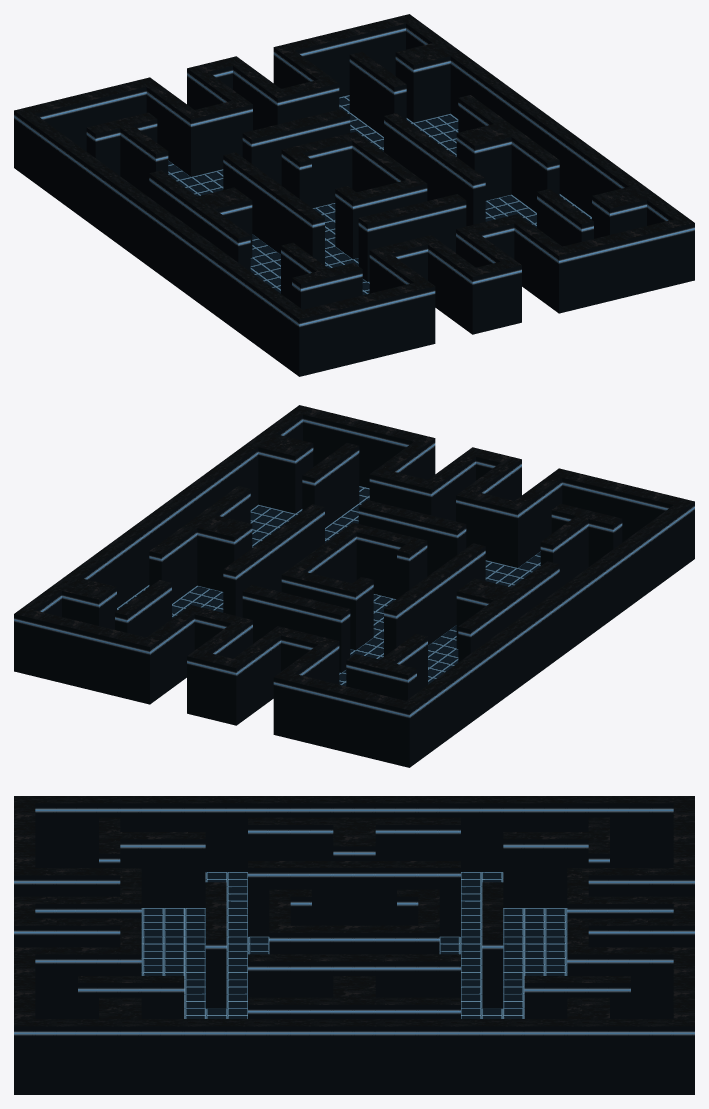
Rendered from EasyLevel2.fbx.
The picture shows the model from 3 angles, top to bottom: view 1: azimuth 30°, elevation 25°; view 2: azimuth 150°, elevation 25°; view 3: azimuth 270°, elevation 25°; orthographic projection. The views are drawn at different scales.
Parts seen in each view (by area): view 1: Walls, Floor; view 2: Walls, Floor; view 3: Walls, Floor.
Part boxes in pixels (bbox=[...]): Walls: bbox=[14, 14, 694, 376]; Floor: bbox=[168, 95, 591, 294]; Walls: bbox=[14, 405, 694, 767]; Floor: bbox=[117, 486, 540, 685]; Walls: bbox=[14, 796, 694, 1094]; Floor: bbox=[141, 872, 567, 1018].
Size of the model in its own units: 40 by 5.56 by 50.
